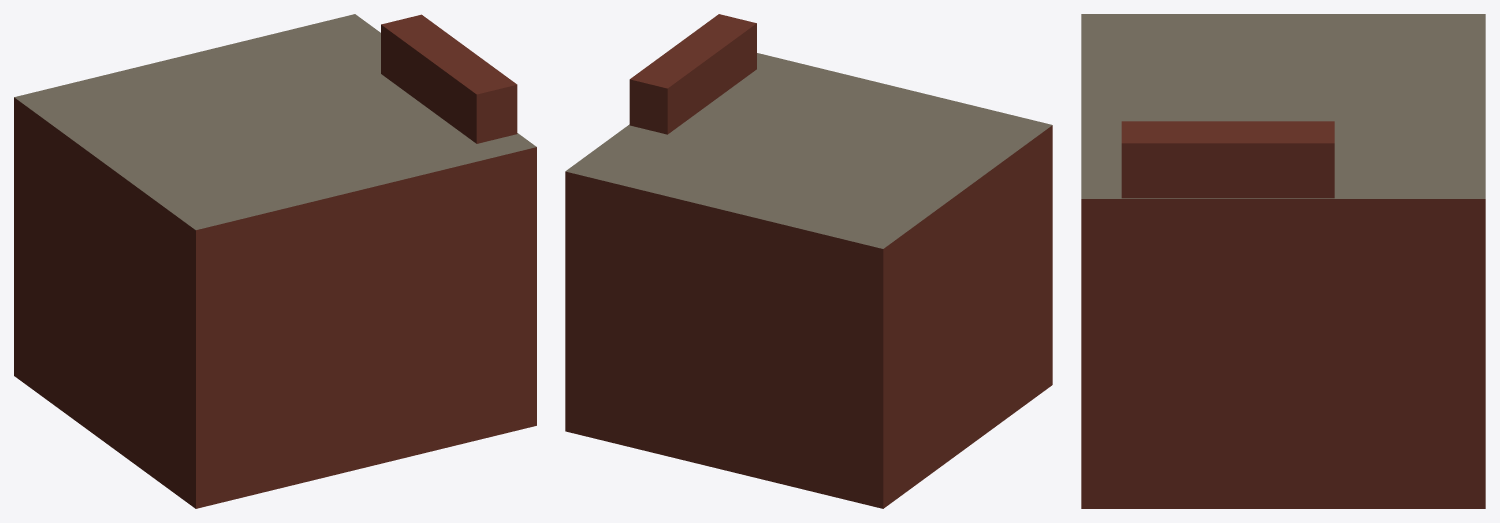
File: ns-corner-store.towns-v1.lod2.glb
The picture shows the model from 3 angles, left to right: view 1: azimuth 30°, elevation 25°; view 2: azimuth 150°, elevation 25°; view 3: azimuth 270°, elevation 25°; orthographic projection. The views are drawn at different scales.
Parts seen in each view (by area): view 1: ns-corner-store; view 2: ns-corner-store; view 3: ns-corner-store.
Boxes of the visible parts, box(x1,y1,x2,y2) form: ns-corner-store: box(14, 14, 536, 508); ns-corner-store: box(565, 14, 1052, 508); ns-corner-store: box(1081, 14, 1485, 508).
Bounding box in the file's own units: 13 × 11.95 × 12.
